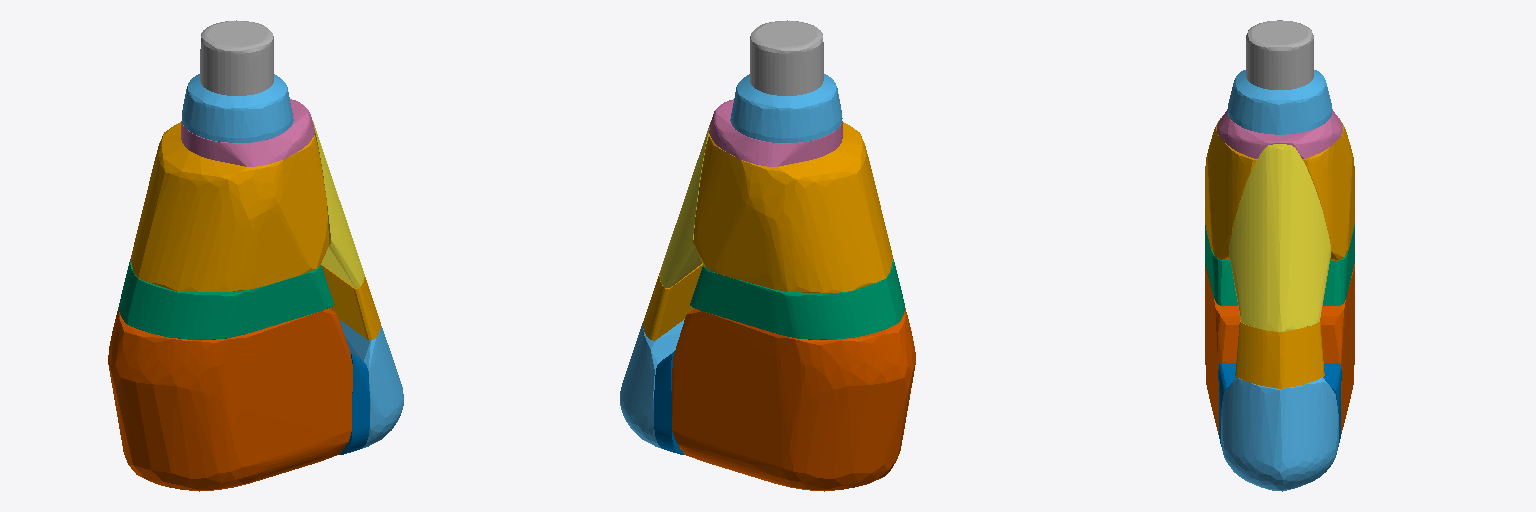
robot.urdf — root:
<robot name="root">
  <link name="link_convex_piece_004.obj">
    <inertial>
      <origin xyz="0 0 0" rpy="0 0 0"/>
    </inertial>
    <visual>
      <origin xyz="0 0 0" rpy="0 0 0"/>
      <geometry>
        <mesh filename="meshes/convex_piece_004.obj" scale="1.0 1.0 1.0"/>
      </geometry>
    </visual>
    <collision>
      <origin xyz="0 0 0" rpy="0 0 0"/>
      <geometry>
        <mesh filename="meshes/convex_piece_004.obj" scale="1.0 1.0 1.0"/>
      </geometry>
    </collision>
  </link>
  <link name="link_convex_piece_001.obj">
    <inertial>
      <origin xyz="0 0 0" rpy="0 0 0"/>
    </inertial>
    <visual>
      <origin xyz="0 0 0" rpy="0 0 0"/>
      <geometry>
        <mesh filename="meshes/convex_piece_001.obj" scale="1.0 1.0 1.0"/>
      </geometry>
    </visual>
    <collision>
      <origin xyz="0 0 0" rpy="0 0 0"/>
      <geometry>
        <mesh filename="meshes/convex_piece_001.obj" scale="1.0 1.0 1.0"/>
      </geometry>
    </collision>
  </link>
  <joint name="link_convex_piece_001.obj_joint" type="fixed">
    <origin xyz="0 0 0" rpy="0 0 0"/>
    <parent link="link_convex_piece_004.obj"/>
    <child link="link_convex_piece_001.obj"/>
  </joint>
  <link name="link_convex_piece_005.obj">
    <inertial>
      <origin xyz="0 0 0" rpy="0 0 0"/>
    </inertial>
    <visual>
      <origin xyz="0 0 0" rpy="0 0 0"/>
      <geometry>
        <mesh filename="meshes/convex_piece_005.obj" scale="1.0 1.0 1.0"/>
      </geometry>
    </visual>
    <collision>
      <origin xyz="0 0 0" rpy="0 0 0"/>
      <geometry>
        <mesh filename="meshes/convex_piece_005.obj" scale="1.0 1.0 1.0"/>
      </geometry>
    </collision>
  </link>
  <joint name="link_convex_piece_005.obj_joint" type="fixed">
    <origin xyz="0 0 0" rpy="0 0 0"/>
    <parent link="link_convex_piece_001.obj"/>
    <child link="link_convex_piece_005.obj"/>
  </joint>
  <link name="link_convex_piece_002.obj">
    <inertial>
      <origin xyz="0 0 0" rpy="0 0 0"/>
    </inertial>
    <visual>
      <origin xyz="0 0 0" rpy="0 0 0"/>
      <geometry>
        <mesh filename="meshes/convex_piece_002.obj" scale="1.0 1.0 1.0"/>
      </geometry>
    </visual>
    <collision>
      <origin xyz="0 0 0" rpy="0 0 0"/>
      <geometry>
        <mesh filename="meshes/convex_piece_002.obj" scale="1.0 1.0 1.0"/>
      </geometry>
    </collision>
  </link>
  <joint name="link_convex_piece_002.obj_joint" type="fixed">
    <origin xyz="0 0 0" rpy="0 0 0"/>
    <parent link="link_convex_piece_005.obj"/>
    <child link="link_convex_piece_002.obj"/>
  </joint>
  <link name="link_convex_piece_006.obj">
    <inertial>
      <origin xyz="0 0 0" rpy="0 0 0"/>
    </inertial>
    <visual>
      <origin xyz="0 0 0" rpy="0 0 0"/>
      <geometry>
        <mesh filename="meshes/convex_piece_006.obj" scale="1.0 1.0 1.0"/>
      </geometry>
    </visual>
    <collision>
      <origin xyz="0 0 0" rpy="0 0 0"/>
      <geometry>
        <mesh filename="meshes/convex_piece_006.obj" scale="1.0 1.0 1.0"/>
      </geometry>
    </collision>
  </link>
  <joint name="link_convex_piece_006.obj_joint" type="fixed">
    <origin xyz="0 0 0" rpy="0 0 0"/>
    <parent link="link_convex_piece_002.obj"/>
    <child link="link_convex_piece_006.obj"/>
  </joint>
  <link name="link_convex_piece_003.obj">
    <inertial>
      <origin xyz="0 0 0" rpy="0 0 0"/>
    </inertial>
    <visual>
      <origin xyz="0 0 0" rpy="0 0 0"/>
      <geometry>
        <mesh filename="meshes/convex_piece_003.obj" scale="1.0 1.0 1.0"/>
      </geometry>
    </visual>
    <collision>
      <origin xyz="0 0 0" rpy="0 0 0"/>
      <geometry>
        <mesh filename="meshes/convex_piece_003.obj" scale="1.0 1.0 1.0"/>
      </geometry>
    </collision>
  </link>
  <joint name="link_convex_piece_003.obj_joint" type="fixed">
    <origin xyz="0 0 0" rpy="0 0 0"/>
    <parent link="link_convex_piece_006.obj"/>
    <child link="link_convex_piece_003.obj"/>
  </joint>
  <link name="link_convex_piece_008.obj">
    <inertial>
      <origin xyz="0 0 0" rpy="0 0 0"/>
    </inertial>
    <visual>
      <origin xyz="0 0 0" rpy="0 0 0"/>
      <geometry>
        <mesh filename="meshes/convex_piece_008.obj" scale="1.0 1.0 1.0"/>
      </geometry>
    </visual>
    <collision>
      <origin xyz="0 0 0" rpy="0 0 0"/>
      <geometry>
        <mesh filename="meshes/convex_piece_008.obj" scale="1.0 1.0 1.0"/>
      </geometry>
    </collision>
  </link>
  <joint name="link_convex_piece_008.obj_joint" type="fixed">
    <origin xyz="0 0 0" rpy="0 0 0"/>
    <parent link="link_convex_piece_003.obj"/>
    <child link="link_convex_piece_008.obj"/>
  </joint>
  <link name="link_convex_piece_000.obj">
    <inertial>
      <origin xyz="0 0 0" rpy="0 0 0"/>
    </inertial>
    <visual>
      <origin xyz="0 0 0" rpy="0 0 0"/>
      <geometry>
        <mesh filename="meshes/convex_piece_000.obj" scale="1.0 1.0 1.0"/>
      </geometry>
    </visual>
    <collision>
      <origin xyz="0 0 0" rpy="0 0 0"/>
      <geometry>
        <mesh filename="meshes/convex_piece_000.obj" scale="1.0 1.0 1.0"/>
      </geometry>
    </collision>
  </link>
  <joint name="link_convex_piece_000.obj_joint" type="fixed">
    <origin xyz="0 0 0" rpy="0 0 0"/>
    <parent link="link_convex_piece_008.obj"/>
    <child link="link_convex_piece_000.obj"/>
  </joint>
  <link name="link_convex_piece_009.obj">
    <inertial>
      <origin xyz="0 0 0" rpy="0 0 0"/>
    </inertial>
    <visual>
      <origin xyz="0 0 0" rpy="0 0 0"/>
      <geometry>
        <mesh filename="meshes/convex_piece_009.obj" scale="1.0 1.0 1.0"/>
      </geometry>
    </visual>
    <collision>
      <origin xyz="0 0 0" rpy="0 0 0"/>
      <geometry>
        <mesh filename="meshes/convex_piece_009.obj" scale="1.0 1.0 1.0"/>
      </geometry>
    </collision>
  </link>
  <joint name="link_convex_piece_009.obj_joint" type="fixed">
    <origin xyz="0 0 0" rpy="0 0 0"/>
    <parent link="link_convex_piece_000.obj"/>
    <child link="link_convex_piece_009.obj"/>
  </joint>
  <link name="link_convex_piece_007.obj">
    <inertial>
      <origin xyz="0 0 0" rpy="0 0 0"/>
    </inertial>
    <visual>
      <origin xyz="0 0 0" rpy="0 0 0"/>
      <geometry>
        <mesh filename="meshes/convex_piece_007.obj" scale="1.0 1.0 1.0"/>
      </geometry>
    </visual>
    <collision>
      <origin xyz="0 0 0" rpy="0 0 0"/>
      <geometry>
        <mesh filename="meshes/convex_piece_007.obj" scale="1.0 1.0 1.0"/>
      </geometry>
    </collision>
  </link>
  <joint name="link_convex_piece_007.obj_joint" type="fixed">
    <origin xyz="0 0 0" rpy="0 0 0"/>
    <parent link="link_convex_piece_009.obj"/>
    <child link="link_convex_piece_007.obj"/>
  </joint>
</robot>

--- Render facts (derived) ---
The picture shows the robot from 3 angles, left to right: view 1: azimuth 30°, elevation 25°; view 2: azimuth 150°, elevation 25°; view 3: azimuth 270°, elevation 25°; orthographic projection.
Model root with 10 links and 9 joints (9 fixed), rooted at link_convex_piece_004.obj, posed all joints at 0.
Visible links, largest first — view 1: link_convex_piece_003.obj, link_convex_piece_009.obj, link_convex_piece_005.obj, link_convex_piece_001.obj, link_convex_piece_000.obj, link_convex_piece_007.obj, link_convex_piece_008.obj, link_convex_piece_002.obj, link_convex_piece_004.obj, link_convex_piece_006.obj; view 2: link_convex_piece_003.obj, link_convex_piece_009.obj, link_convex_piece_005.obj, link_convex_piece_001.obj, link_convex_piece_000.obj, link_convex_piece_007.obj, link_convex_piece_008.obj, link_convex_piece_002.obj, link_convex_piece_004.obj, link_convex_piece_006.obj; view 3: link_convex_piece_002.obj, link_convex_piece_007.obj, link_convex_piece_009.obj, link_convex_piece_003.obj, link_convex_piece_004.obj, link_convex_piece_001.obj, link_convex_piece_000.obj, link_convex_piece_008.obj, link_convex_piece_005.obj, link_convex_piece_006.obj.
Boxes of the visible links, bbox=[...] form: link_convex_piece_003.obj: bbox=[108, 307, 352, 491]; link_convex_piece_009.obj: bbox=[130, 122, 328, 291]; link_convex_piece_005.obj: bbox=[119, 259, 333, 339]; link_convex_piece_001.obj: bbox=[182, 74, 293, 142]; link_convex_piece_000.obj: bbox=[200, 20, 273, 95]; link_convex_piece_007.obj: bbox=[339, 319, 403, 448]; link_convex_piece_008.obj: bbox=[181, 99, 314, 166]; link_convex_piece_002.obj: bbox=[312, 120, 364, 287]; link_convex_piece_004.obj: bbox=[321, 264, 380, 340]; link_convex_piece_006.obj: bbox=[339, 352, 369, 454]; link_convex_piece_003.obj: bbox=[672, 308, 915, 491]; link_convex_piece_009.obj: bbox=[693, 122, 892, 292]; link_convex_piece_005.obj: bbox=[690, 259, 904, 339]; link_convex_piece_001.obj: bbox=[730, 74, 842, 142]; link_convex_piece_000.obj: bbox=[750, 20, 823, 95]; link_convex_piece_007.obj: bbox=[620, 319, 684, 448]; link_convex_piece_008.obj: bbox=[709, 99, 842, 166]; link_convex_piece_002.obj: bbox=[660, 120, 711, 287]; link_convex_piece_004.obj: bbox=[643, 263, 702, 340]; link_convex_piece_006.obj: bbox=[654, 351, 684, 454]; link_convex_piece_002.obj: bbox=[1228, 144, 1330, 331]; link_convex_piece_007.obj: bbox=[1221, 377, 1338, 491]; link_convex_piece_009.obj: bbox=[1205, 118, 1354, 260]; link_convex_piece_003.obj: bbox=[1205, 264, 1354, 434]; link_convex_piece_004.obj: bbox=[1235, 320, 1324, 388]; link_convex_piece_001.obj: bbox=[1228, 70, 1331, 134]; link_convex_piece_000.obj: bbox=[1246, 20, 1313, 89]; link_convex_piece_008.obj: bbox=[1217, 109, 1342, 158]; link_convex_piece_005.obj: bbox=[1205, 224, 1354, 305]; link_convex_piece_006.obj: bbox=[1218, 363, 1341, 446].
Bounding box of the posed robot: 1.12 × 0.5465 × 1.59 m (x, y, z).
Meshes: 10 distinct files referenced, 10 mesh visuals loaded (10 OBJ).
